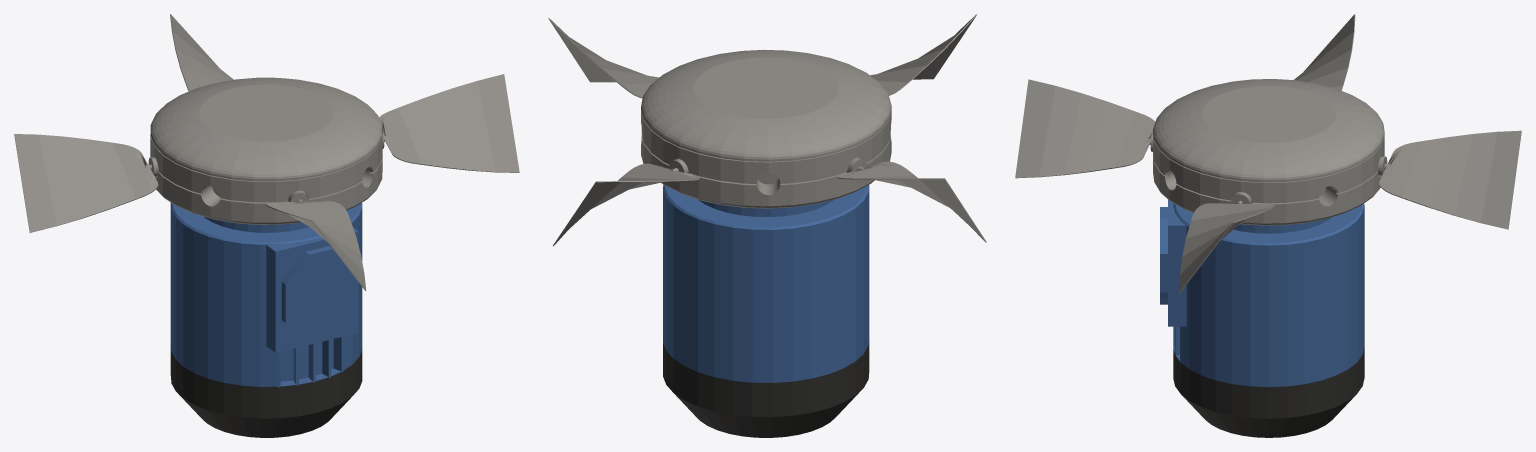
File: vent_move.fbx
3 views of the same model, side by side, from view 1: azimuth 30°, elevation 25°; view 2: azimuth 150°, elevation 25°; view 3: azimuth 270°, elevation 25° (orthographic). The views are drawn at different scales.
Parts seen in each view (by area): view 1: Cylinder.003, Cube.009; view 2: Cube.009, Cylinder.003; view 3: Cylinder.003, Cube.009.
Boxes of the visible parts, x1,y1,x2,y2 form: Cylinder.003: [14, 14, 519, 290]; Cube.009: [170, 202, 362, 437]; Cube.009: [663, 185, 869, 437]; Cylinder.003: [548, 14, 986, 246]; Cylinder.003: [1015, 14, 1521, 292]; Cube.009: [1160, 199, 1364, 437].
Bounding box in the file's own units: 46.62 × 29.91 × 46.62.
